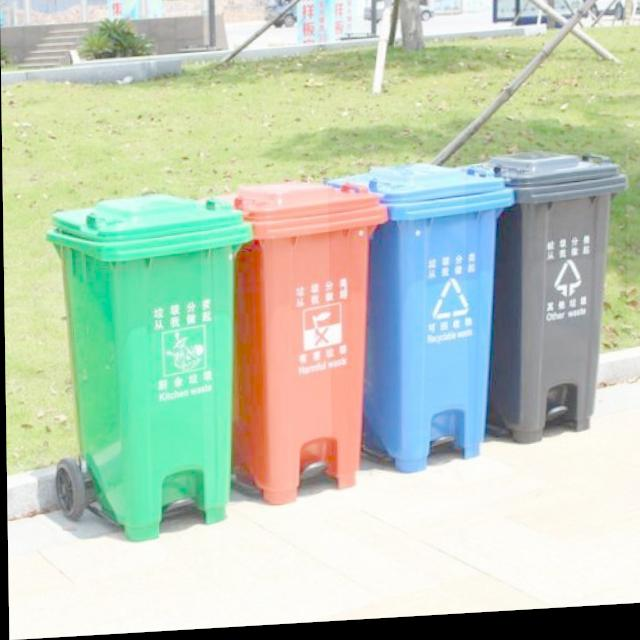garbage_bin: (44, 192, 253, 546), (199, 180, 389, 511), (327, 163, 516, 480), (464, 158, 629, 452)
